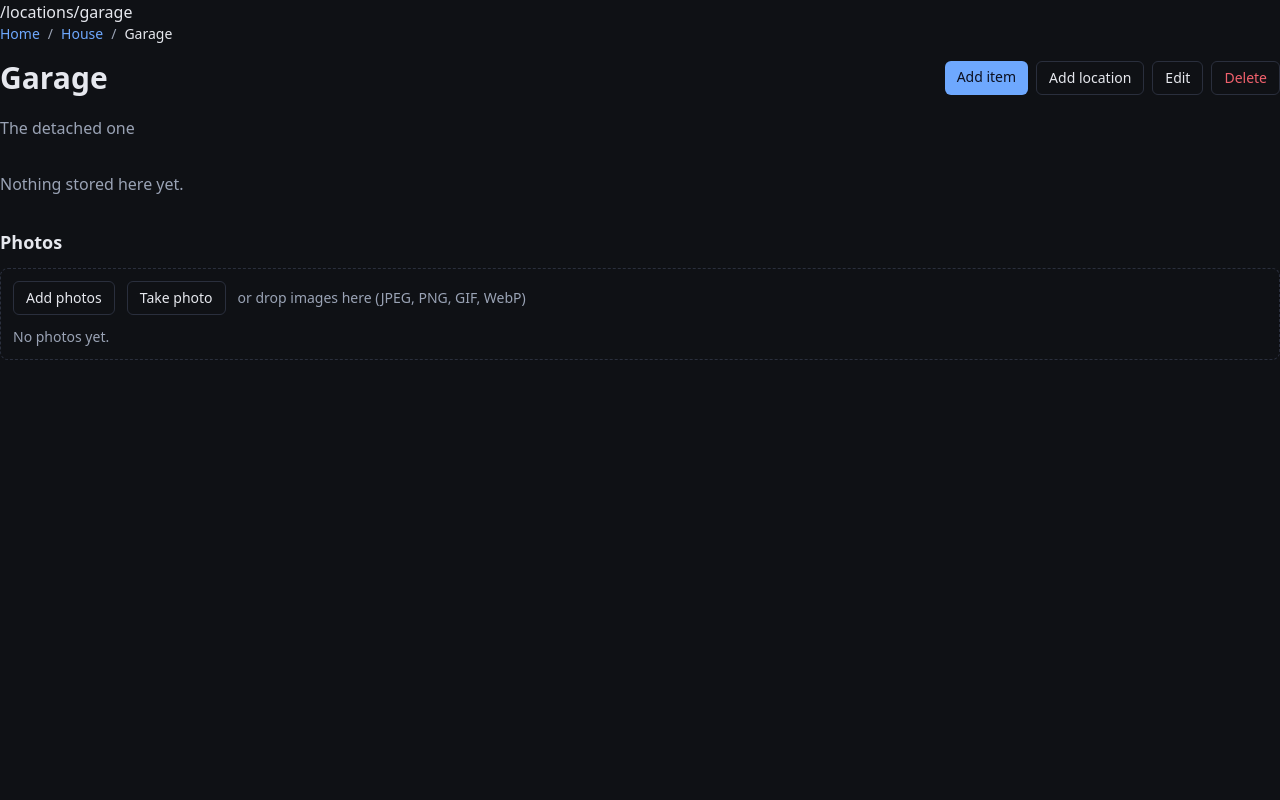
Test: LocationPage › asks before deleting; Cancel sends nothing
The image size is (1280, 800).
Click the button "Delete" at (1246, 78), box left=1211, top=61, right=1279, bottom=95
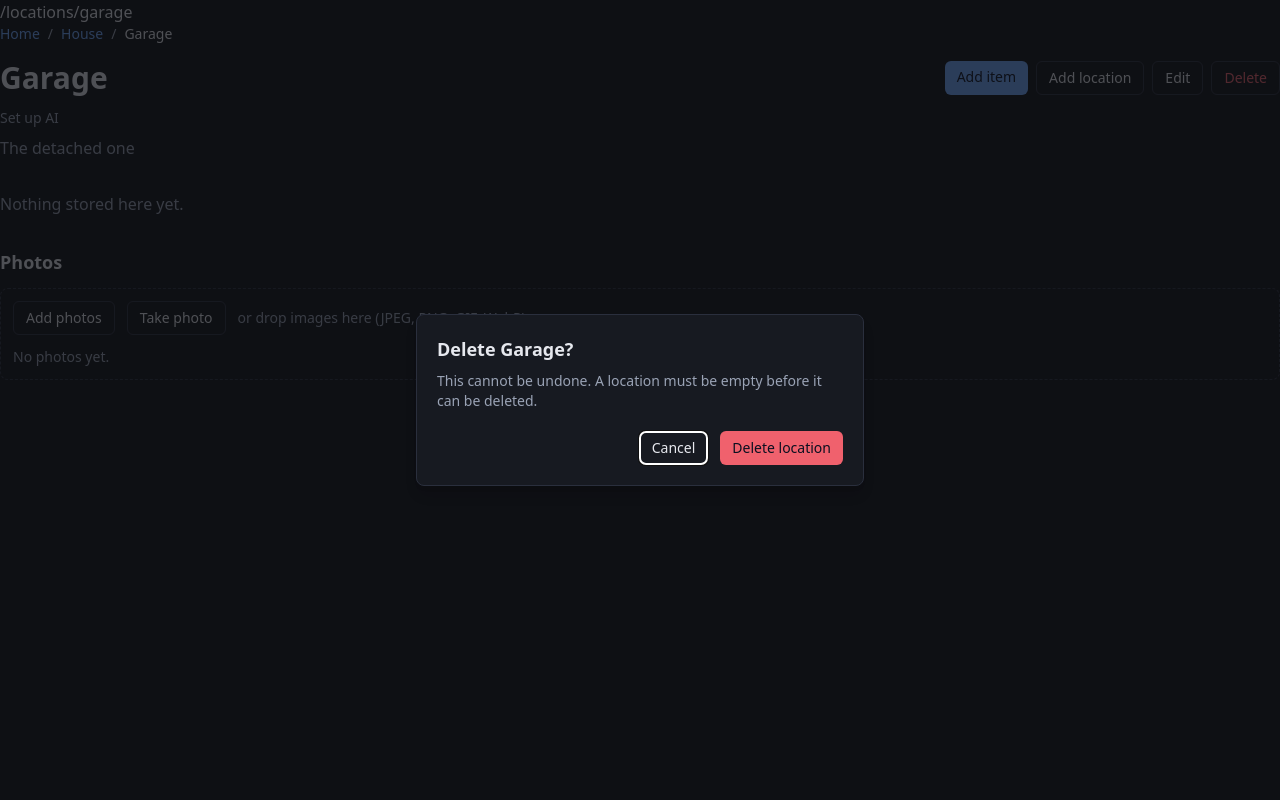
Click the button "Cancel" at (674, 448), box left=639, top=431, right=708, bottom=465
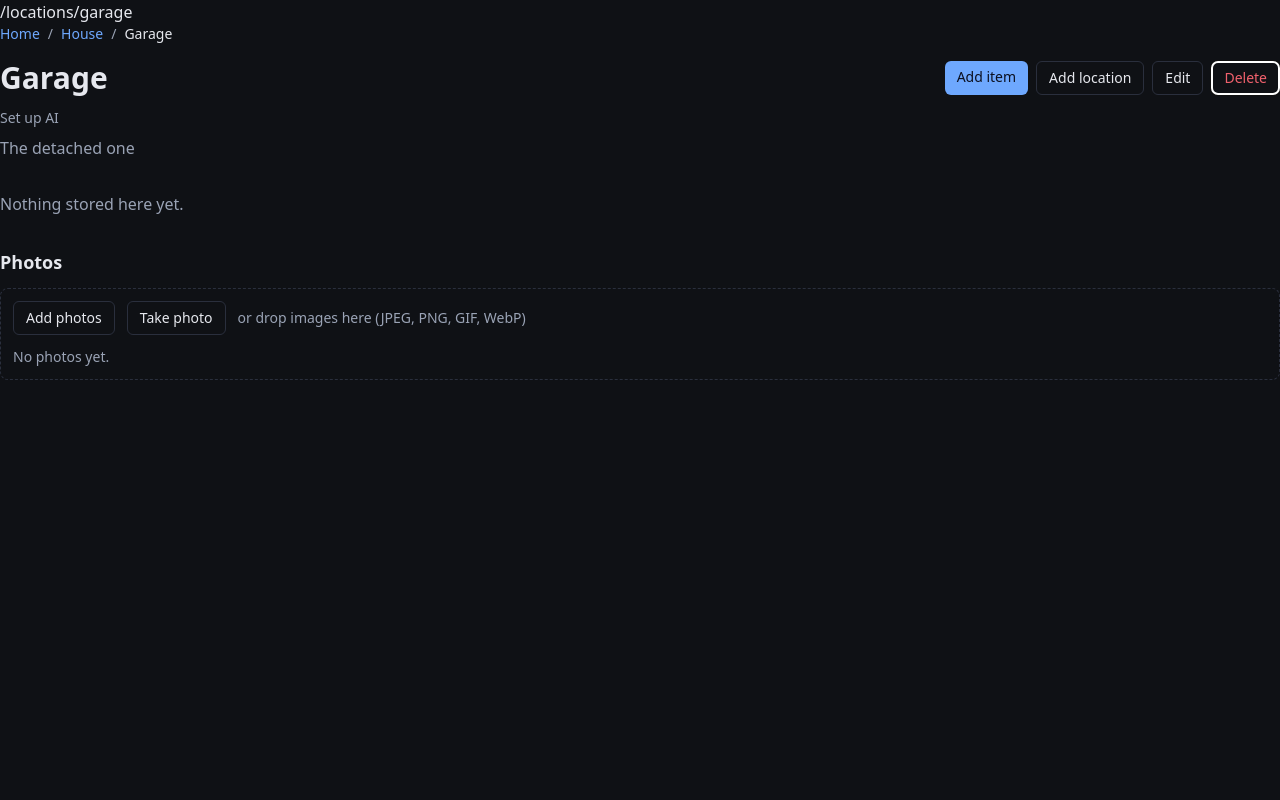
Expected: the text with test id "current-path" reads "/locations/garage", left=0, top=1, right=132, bottom=23
Result: the dialog is gone
